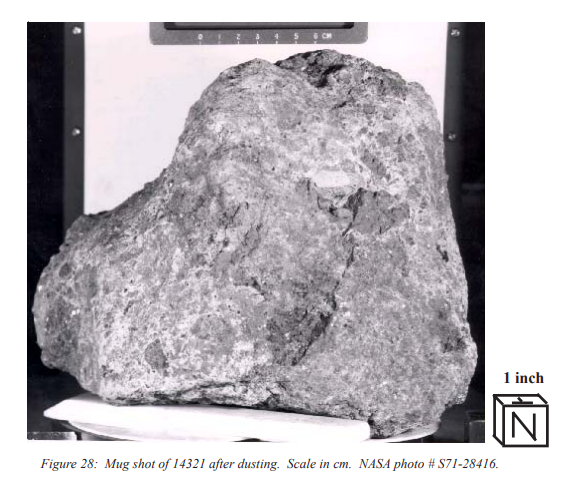Breccia: (29, 59, 475, 425), (237, 59, 464, 422), (43, 222, 467, 413), (226, 149, 450, 399)
